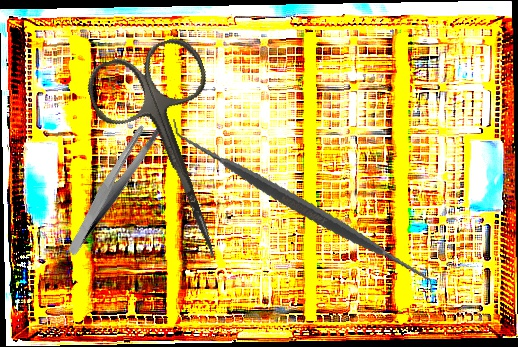Dressing Forceps: (38, 115, 188, 257)
Iris Scissors: (81, 31, 266, 278)
Spatula Surgical: (171, 79, 434, 333)
